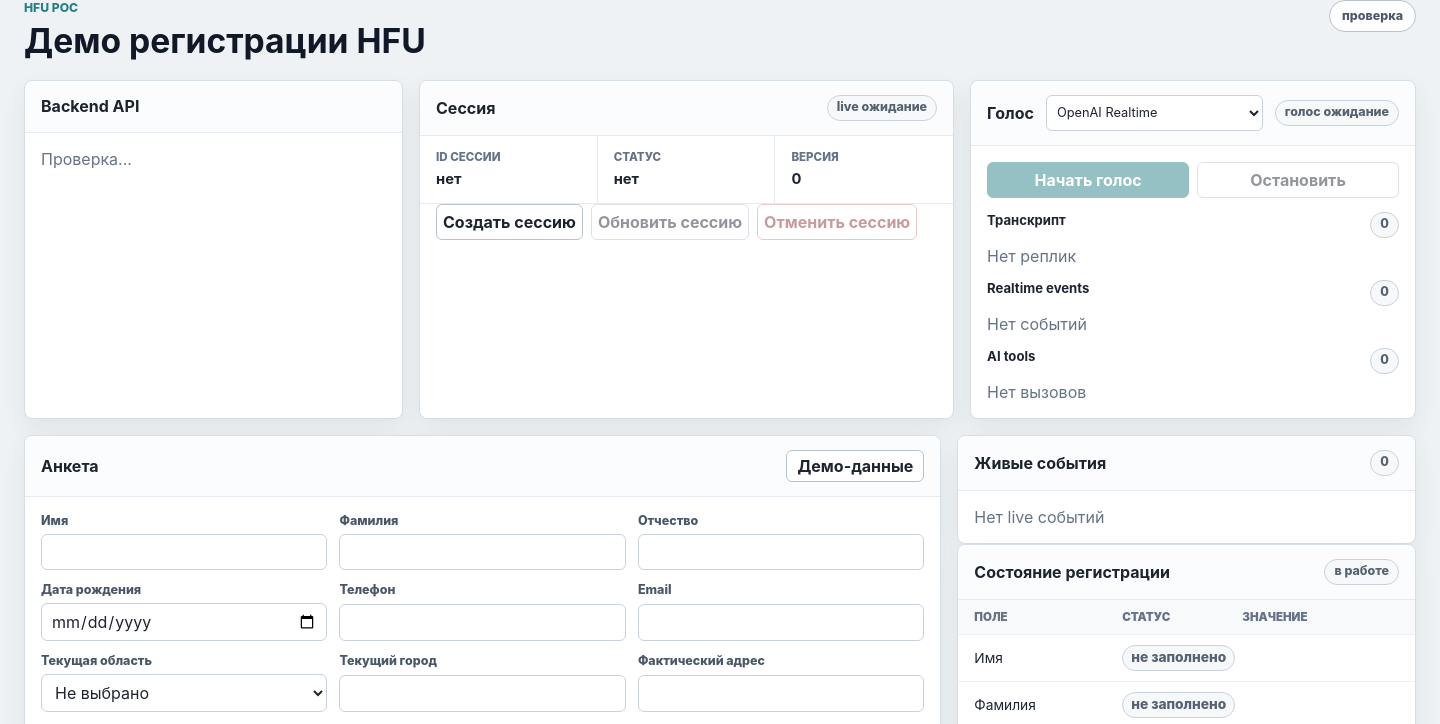
Test case: App › displays structured business tool errors
Click the button "Создать сессию": (509, 222) [436,204,583,240]
(page scrolled)
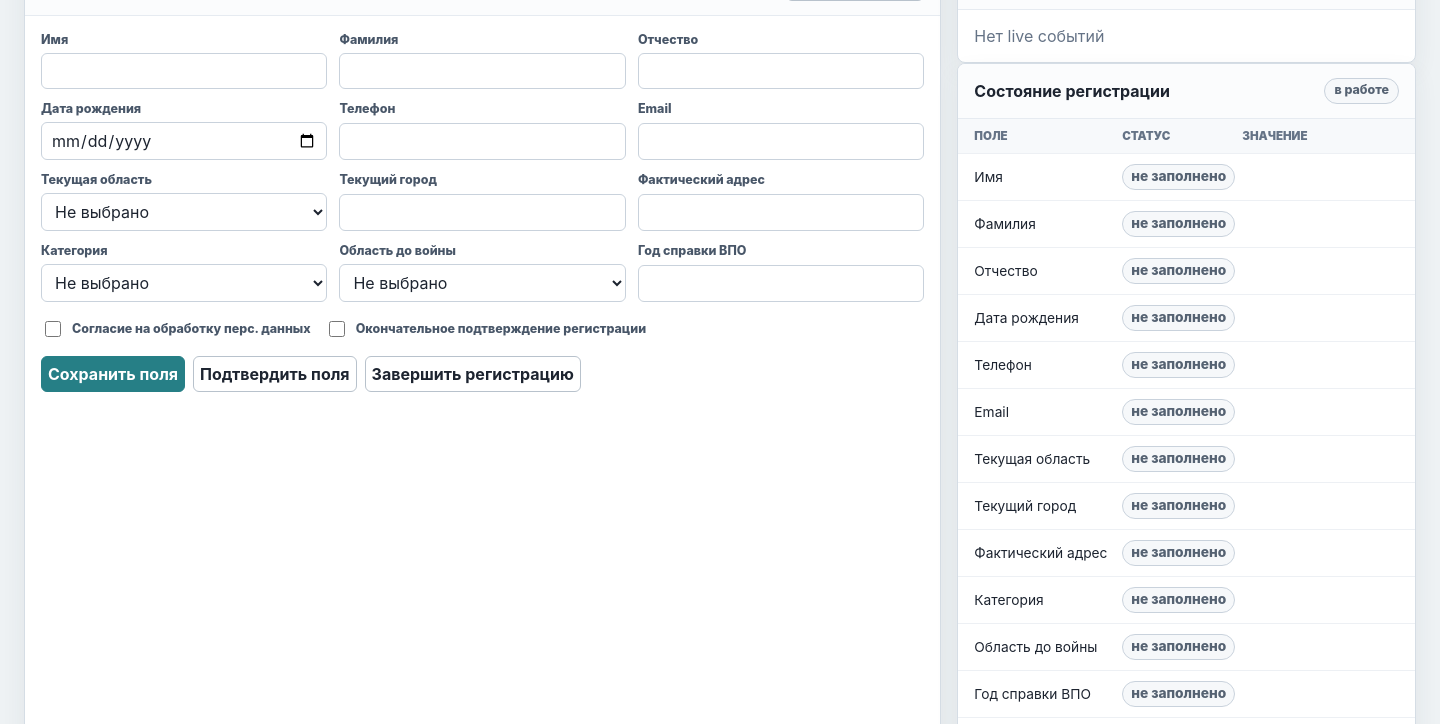
Expected: the button "Завершить регистрацию" is enabled
Click the button "Завершить регистрацию": (473, 374) [365,356,581,392]
(page scrolled)
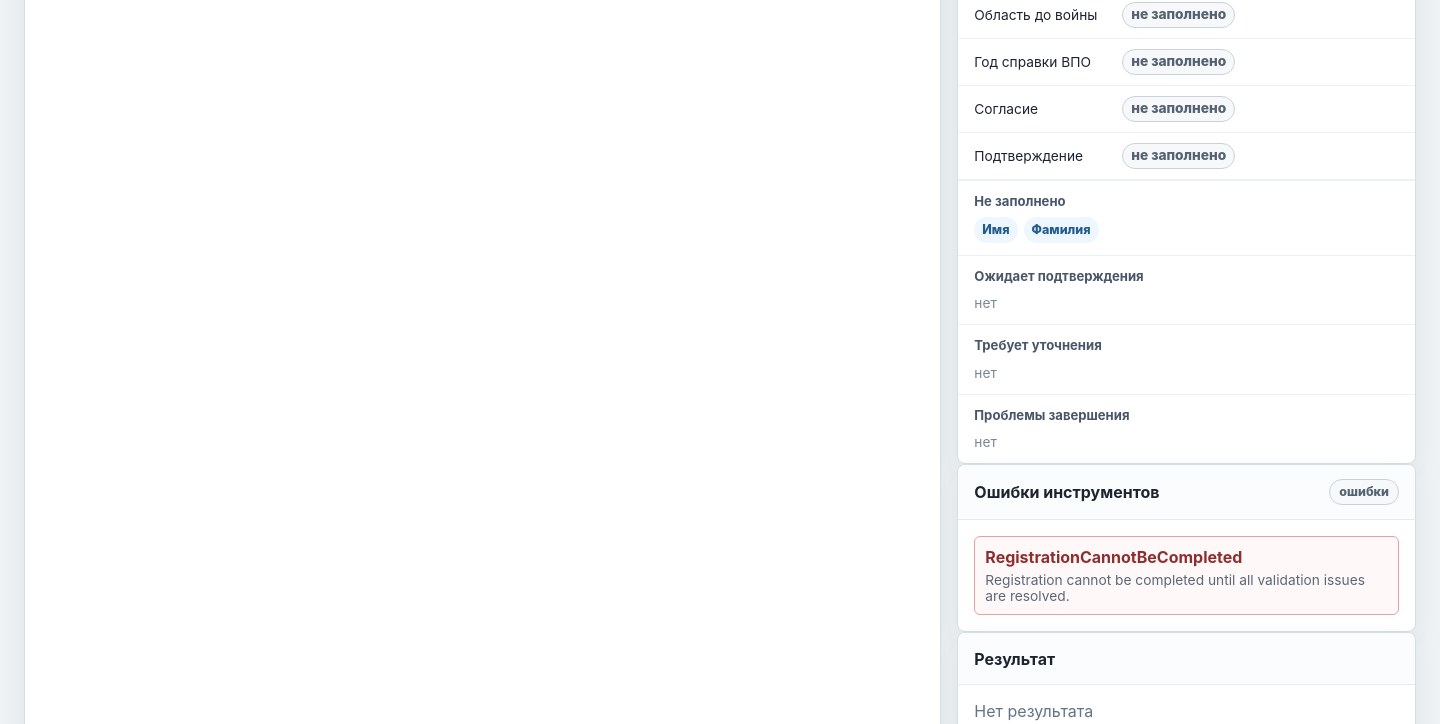
Expected: the text "RegistrationCannotBeCompleted" is shown, [985,547,1242,567]
Expected: the text "cannot be completed" is shown, [985,572,1365,604]
